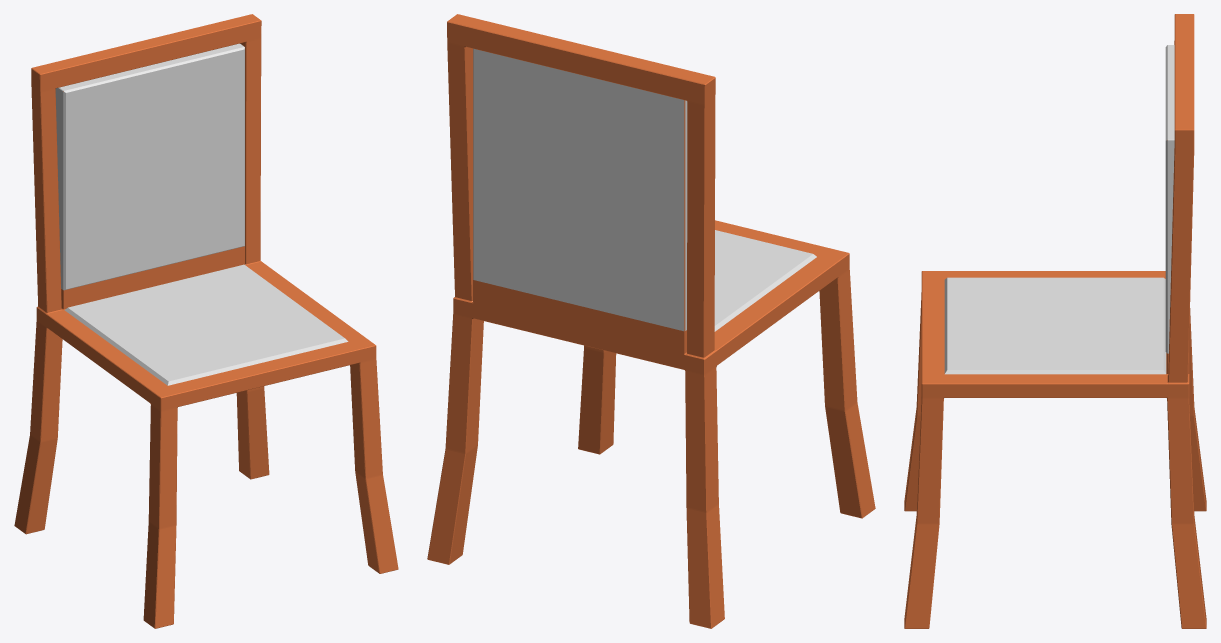
File: Cadeira.fbx
3 views of the same model, side by side, from view 1: azimuth 30°, elevation 25°; view 2: azimuth 150°, elevation 25°; view 3: azimuth 270°, elevation 25° (orthographic). The views are drawn at different scales.
Parts seen in each view (by area): view 1: Cube.009; view 2: Cube.009; view 3: Cube.009.
Boxes of the visible parts, x1,y1,x2,y2 form: Cube.009: [14, 14, 398, 628]; Cube.009: [427, 14, 875, 628]; Cube.009: [904, 14, 1206, 628].
Size of the model in its own units: 1064 by 1918 by 1064.
